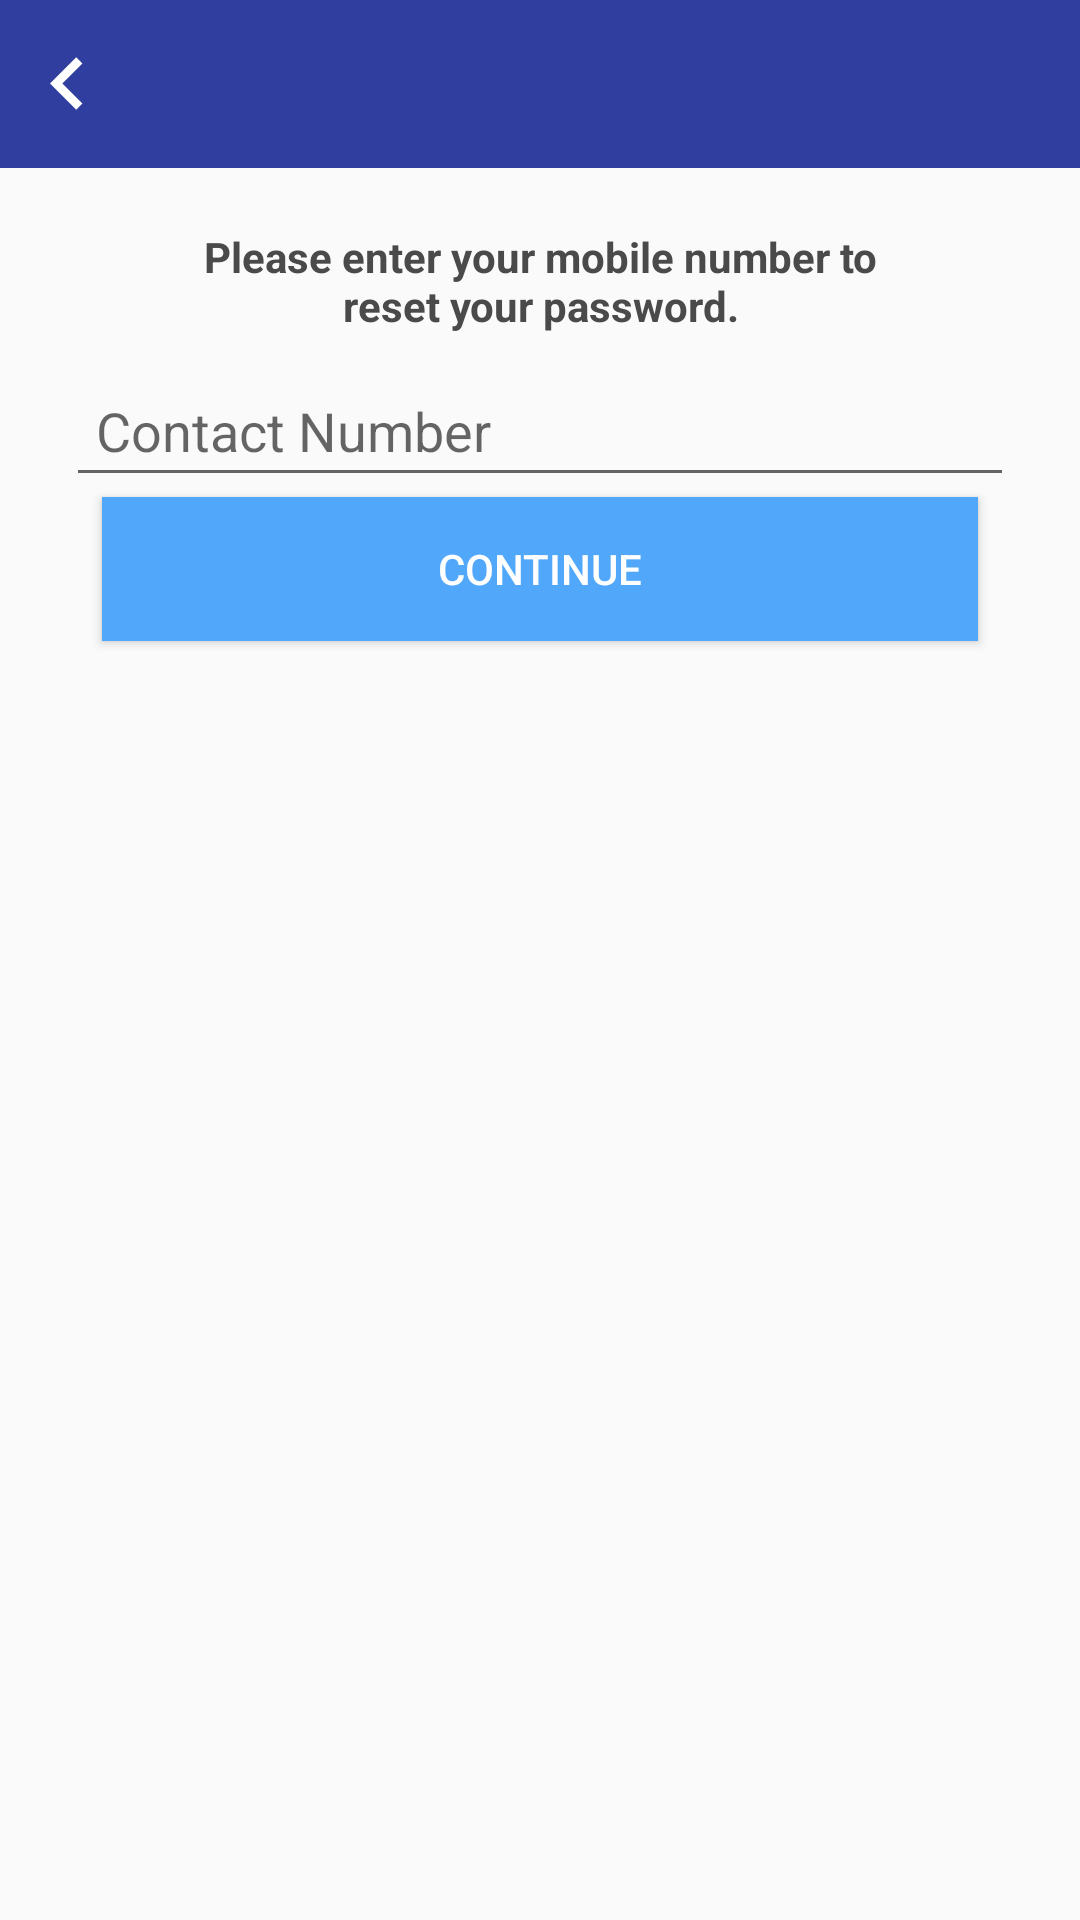

Named icons in this screenshot (1080w x 1920h) and their centers, (x,y):
chevron left: (66,83)
